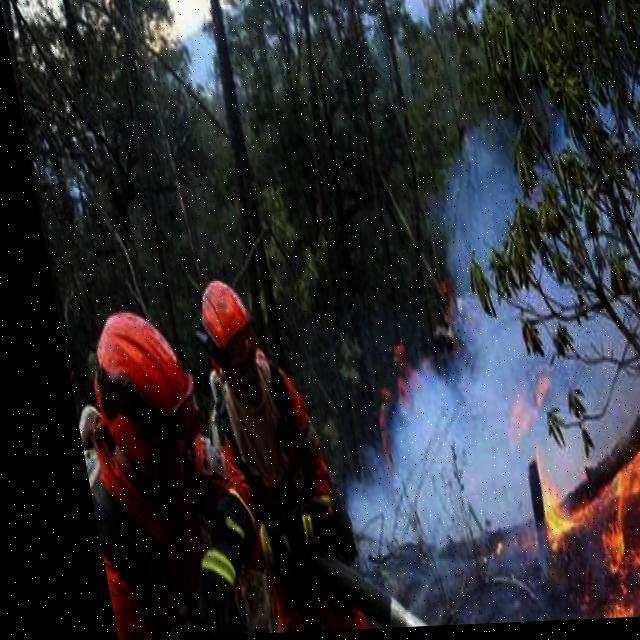Fire: (482, 365, 639, 621)
